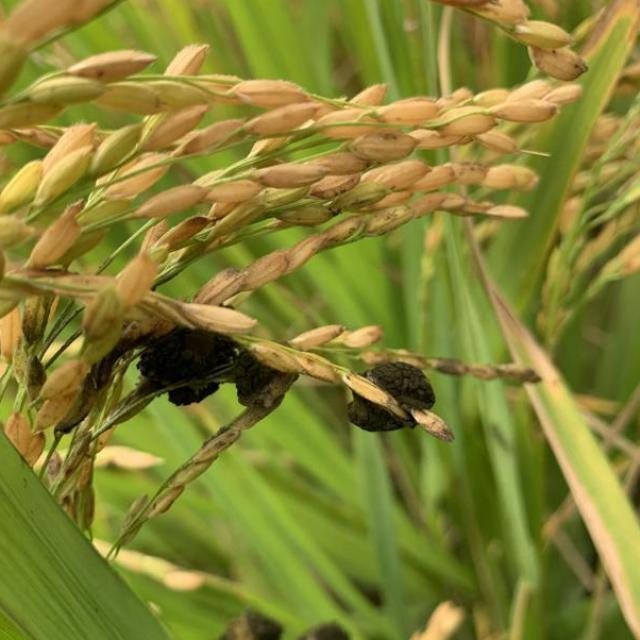Leaf_Scald: (136, 324, 276, 409), (342, 358, 437, 436)
